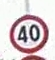limite 40: (9, 14, 49, 51)
